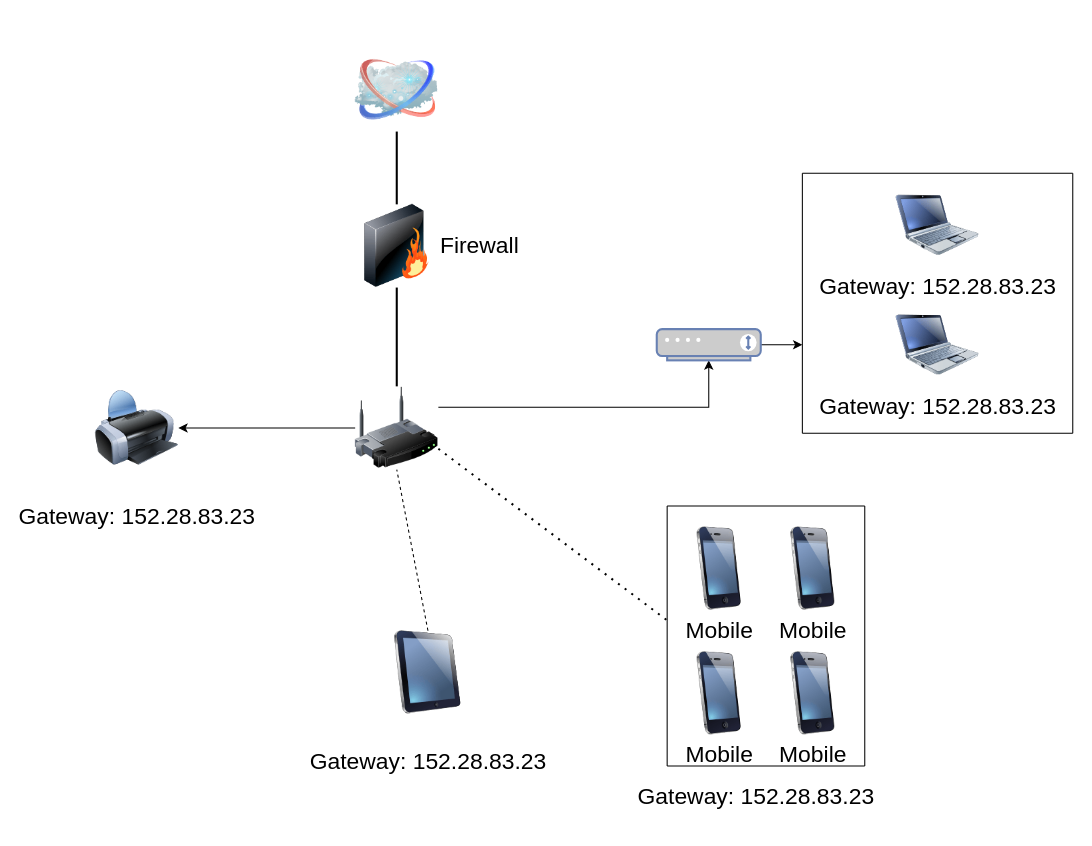
The diagram is 1092 pixels wide and 846 high, and some of its shapes have lost their labels. The shapes that lost their labels are listed below. From the top down, each one's box as (x1, y1, x2, y2) in pixels, then its label:
(355, 48, 438, 131): Internet
(355, 386, 438, 469): IP: 152.28.83.23
